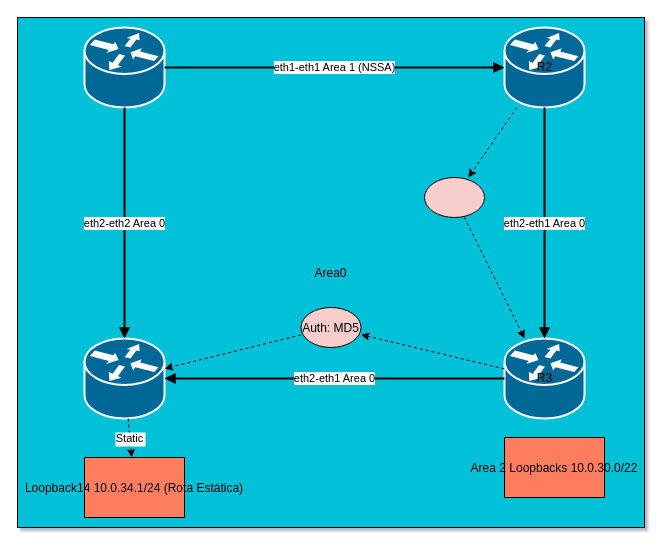
Some shapes in this 668 by 551 pixel diagram are drawn without their labels. The shapes that lost their labels are listed below. From the top down, each one's box as (x1, y1, x2, y2) in pixels, then its label:
(83, 26, 165, 108): R1
(424, 176, 484, 218): Auth: Cleartext Hello: 10s, Dead: 60s
(83, 337, 165, 419): R4
